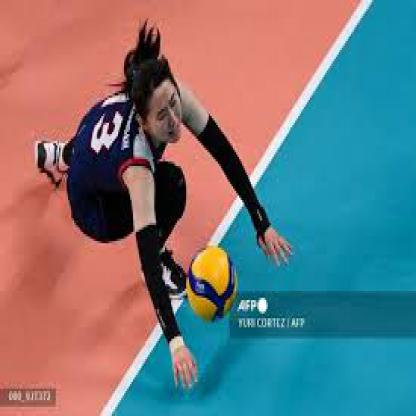Fall_Down: (32, 17, 296, 396)
